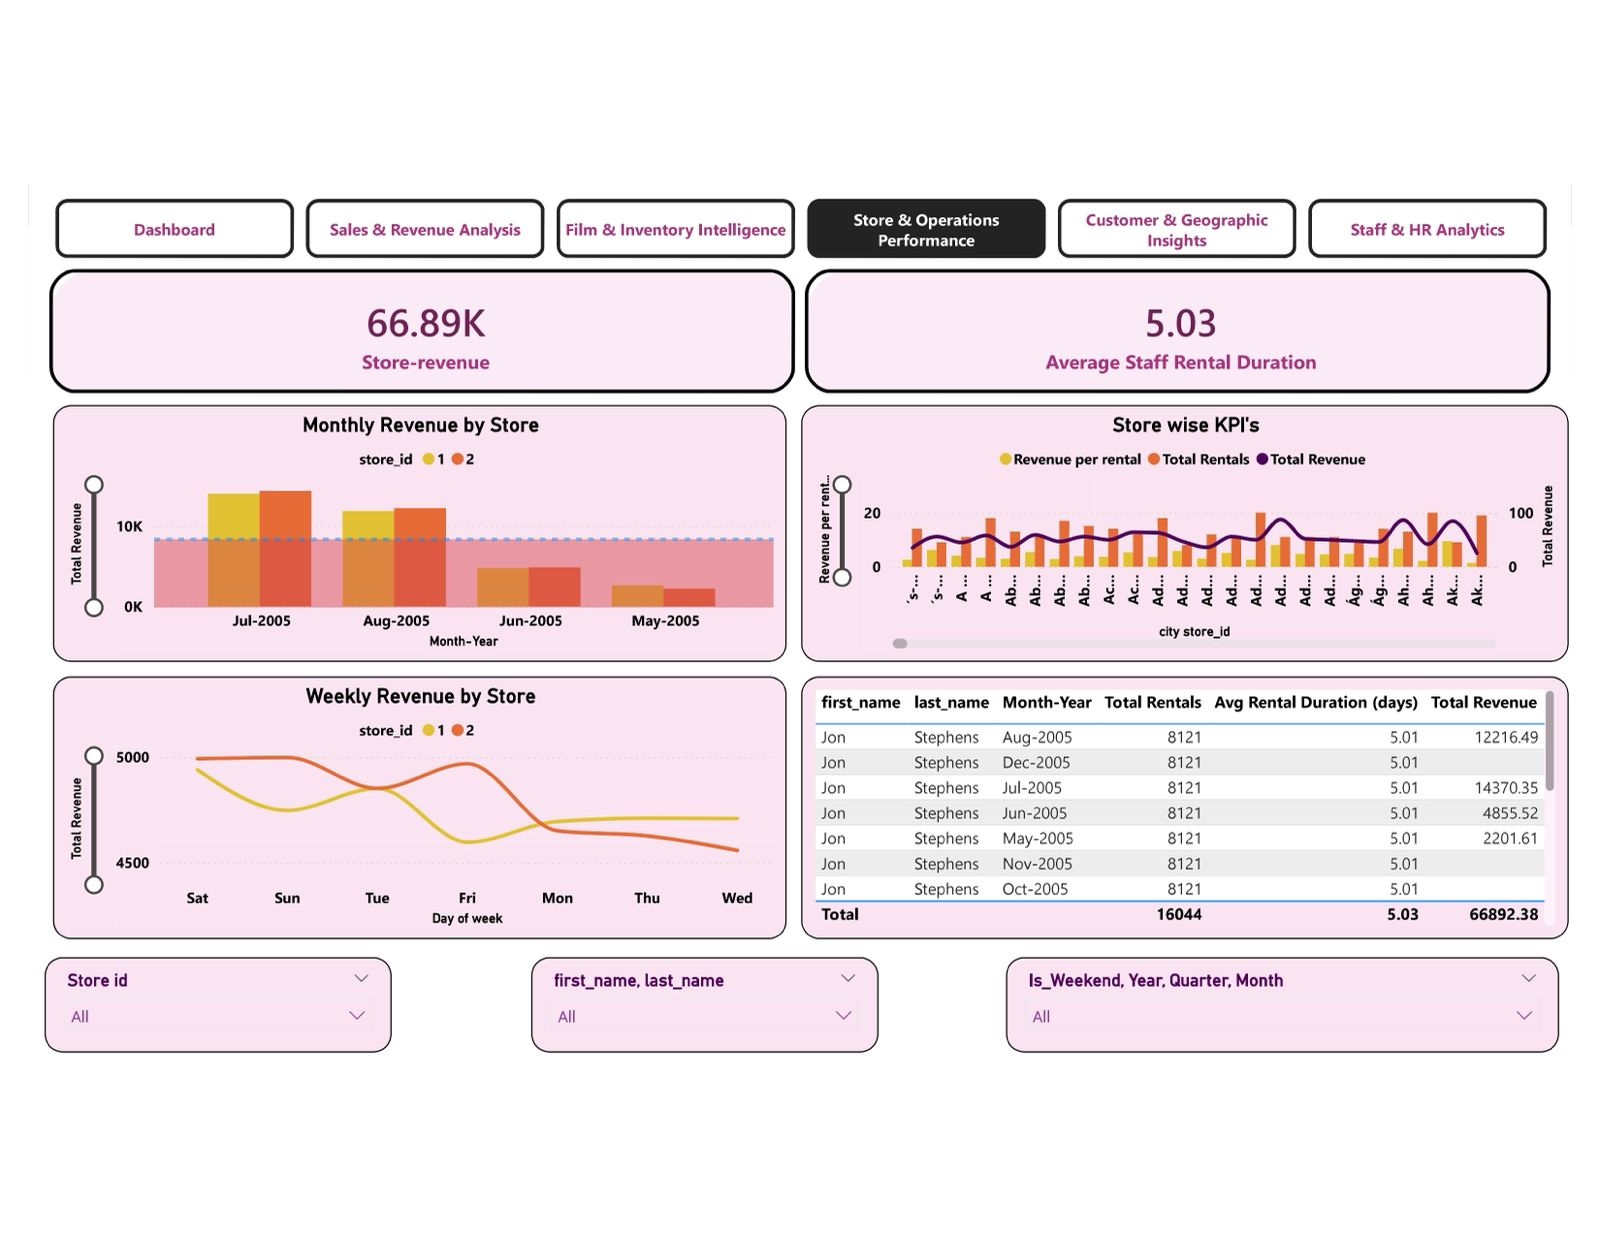

Layout of this report page (visuals, bound fields, positions):
{"tool":"powerbi","page":{"name":"Store & Operations Performance","canvas":[1280,720],"ordinal":4},"visuals":[{"type":"cardVisual","fields":{"Data":["store.Store-revenue","rental.Avg rental Duration by Staff"]},"box":[0,52.6,1280.3,137],"z":0},{"type":"clusteredColumnChart","title":"Monthly Revenue by Store","fields":{"Category":["Date.Month-Year"],"Y":["payment.Total Revenue"],"Series":["staff.store_id"]},"box":[20.4,183.4,608.3,213.1],"z":1000},{"type":"lineChart","title":"Weekly Revenue by Store","fields":{"Category":["Date.Day of week"],"Y":["payment.Total Revenue"],"Series":["staff.store_id"]},"box":[20.4,408.4,608.3,217.5],"z":2000},{"type":"lineClusteredColumnComboChart","title":"Store wise KPI''s","fields":{"Category":["city.city","staff.store_id"],"Y":["rental.Revenue per rental","rental.Total Rentals"],"Y2":["payment.Total Revenue"]},"box":[640.5,183.4,637.7,213.1],"z":3000},{"type":"tableEx","fields":{"Values":["staff.first_name","staff.last_name","Date.Month-Year","rental.Total Rentals","rental.Avg Rental Duration (days)","payment.Total Revenue"]},"box":[640.5,408.4,637.7,217.5],"z":4000},{"type":"slicer","fields":{"Values":["staff.first_name","staff.last_name"]},"box":[416.7,640.5,288,79.3],"z":5000},{"type":"slicer","fields":{"Values":["Date.Is weekend","Date.Year","Date.Quarter","Date.Month Name"]},"box":[810.5,640.5,459.9,79.3],"z":6000},{"type":"slicer","fields":{"Values":["staff.store_id"]},"box":[12.6,640.5,288,79.3],"z":7000},{"type":"pageNavigator","box":[22,12.2,1237.5,48.9],"z":8000}]}

Visuals, with their boxes on the page's 1280x720 design canvas (x1, y1, x2, y2). These are canvas units, not pixel positions in the 1600x1236 screenshot, which may show the page scaled, cropped or inside an application window:
cardVisual - store.Store-revenue x rental.Avg rental Duration by Staff: <box>0,53,1280,190</box>
"Monthly Revenue by Store" clusteredColumnChart: <box>20,183,629,396</box>
"Weekly Revenue by Store" lineChart: <box>20,408,629,626</box>
"Store wise KPI''s" lineClusteredColumnComboChart: <box>640,183,1278,396</box>
tableEx - staff.first_name x staff.last_name: <box>640,408,1278,626</box>
slicer - staff.first_name x staff.last_name: <box>417,640,705,720</box>
slicer - Date.Is weekend x Date.Year: <box>810,640,1270,720</box>
slicer - staff.store_id: <box>13,640,301,720</box>
pageNavigator: <box>22,12,1260,61</box>
